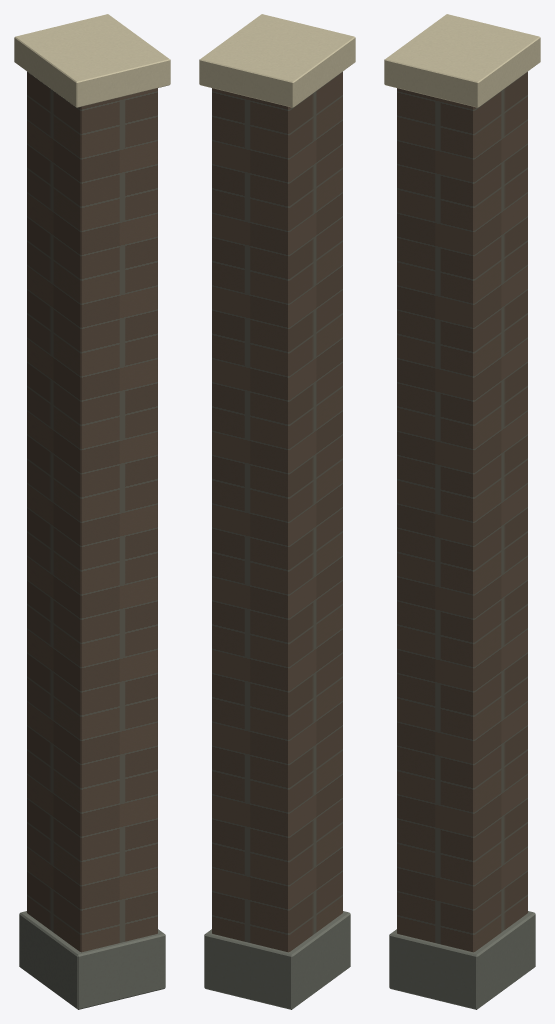
File: masonry_pier.glb
3 views of the same model, side by side, from view 1: azimuth 30°, elevation 25°; view 2: azimuth 150°, elevation 25°; view 3: azimuth 330°, elevation 25° (orthographic).
Visible parts, largest first — view 1: masonry_pier; view 2: masonry_pier; view 3: masonry_pier.
Boxes of the visible parts, bbox=[...] form: masonry_pier: bbox=[14, 14, 170, 1009]; masonry_pier: bbox=[199, 14, 355, 1009]; masonry_pier: bbox=[384, 14, 540, 1009].
Size of the model in its own units: 0.34 by 3.2 by 0.39.
Materials: 3 (3 with a texture image).
